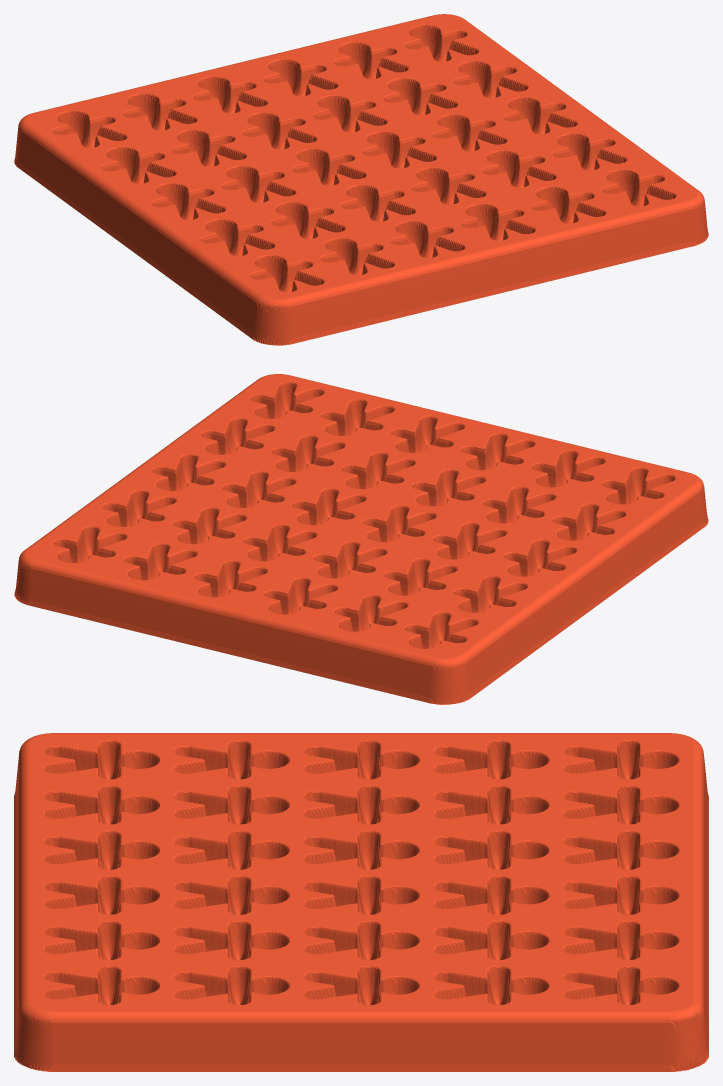
File: mold.glb
The picture shows the model from 3 angles, top to bottom: view 1: azimuth 30°, elevation 25°; view 2: azimuth 150°, elevation 25°; view 3: azimuth 270°, elevation 25°; orthographic projection. The views are drawn at different scales.
Parts seen in each view (by area): view 1: geometry_0; view 2: geometry_0; view 3: geometry_0.
Boxes of the visible parts, x1,y1,x2,y2 form: geometry_0: (14,14,708,345); geometry_0: (14,374,708,704); geometry_0: (14,733,708,1071).
Bounding box in the file's own units: 0.1563 × 0.0136 × 0.1581.
